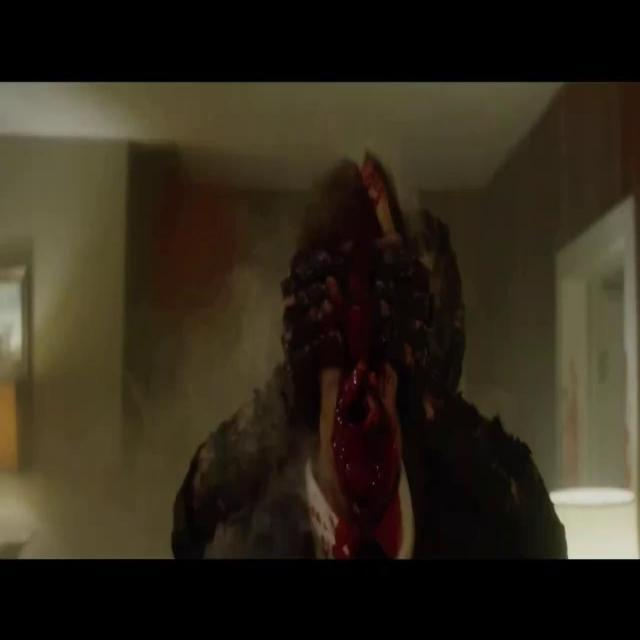flood: (296, 186, 438, 556)
